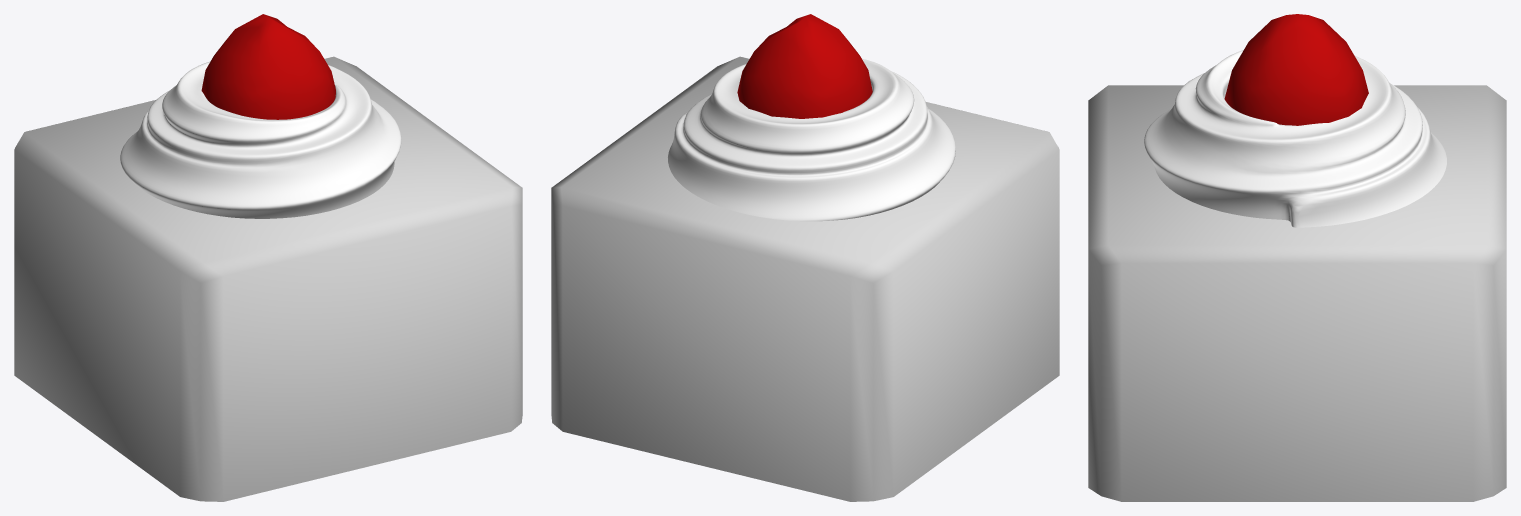
The model's file is Cake_00.fbx.
3 renders of one model, left to right at view 1: azimuth 30°, elevation 25°; view 2: azimuth 150°, elevation 25°; view 3: azimuth 270°, elevation 25°, orthographic. The views are drawn at different scales.
Parts seen in each view (by area): view 1: Cake_body, Cream, Cake_berry; view 2: Cake_body, Cream, Cake_berry; view 3: Cake_body, Cream, Cake_berry.
Boxes of the visible parts, box(x1,y1,x2,y2) form: Cake_body: box(14, 56, 522, 501); Cream: box(120, 61, 401, 218); Cake_berry: box(201, 14, 335, 119); Cake_body: box(551, 56, 1059, 501); Cream: box(668, 59, 955, 221); Cake_berry: box(737, 14, 872, 118); Cake_body: box(1088, 85, 1506, 501); Cream: box(1144, 50, 1446, 227); Cake_berry: box(1224, 14, 1368, 125).
Size of the model in its own units: 44.05 by 46.41 by 44.05.
